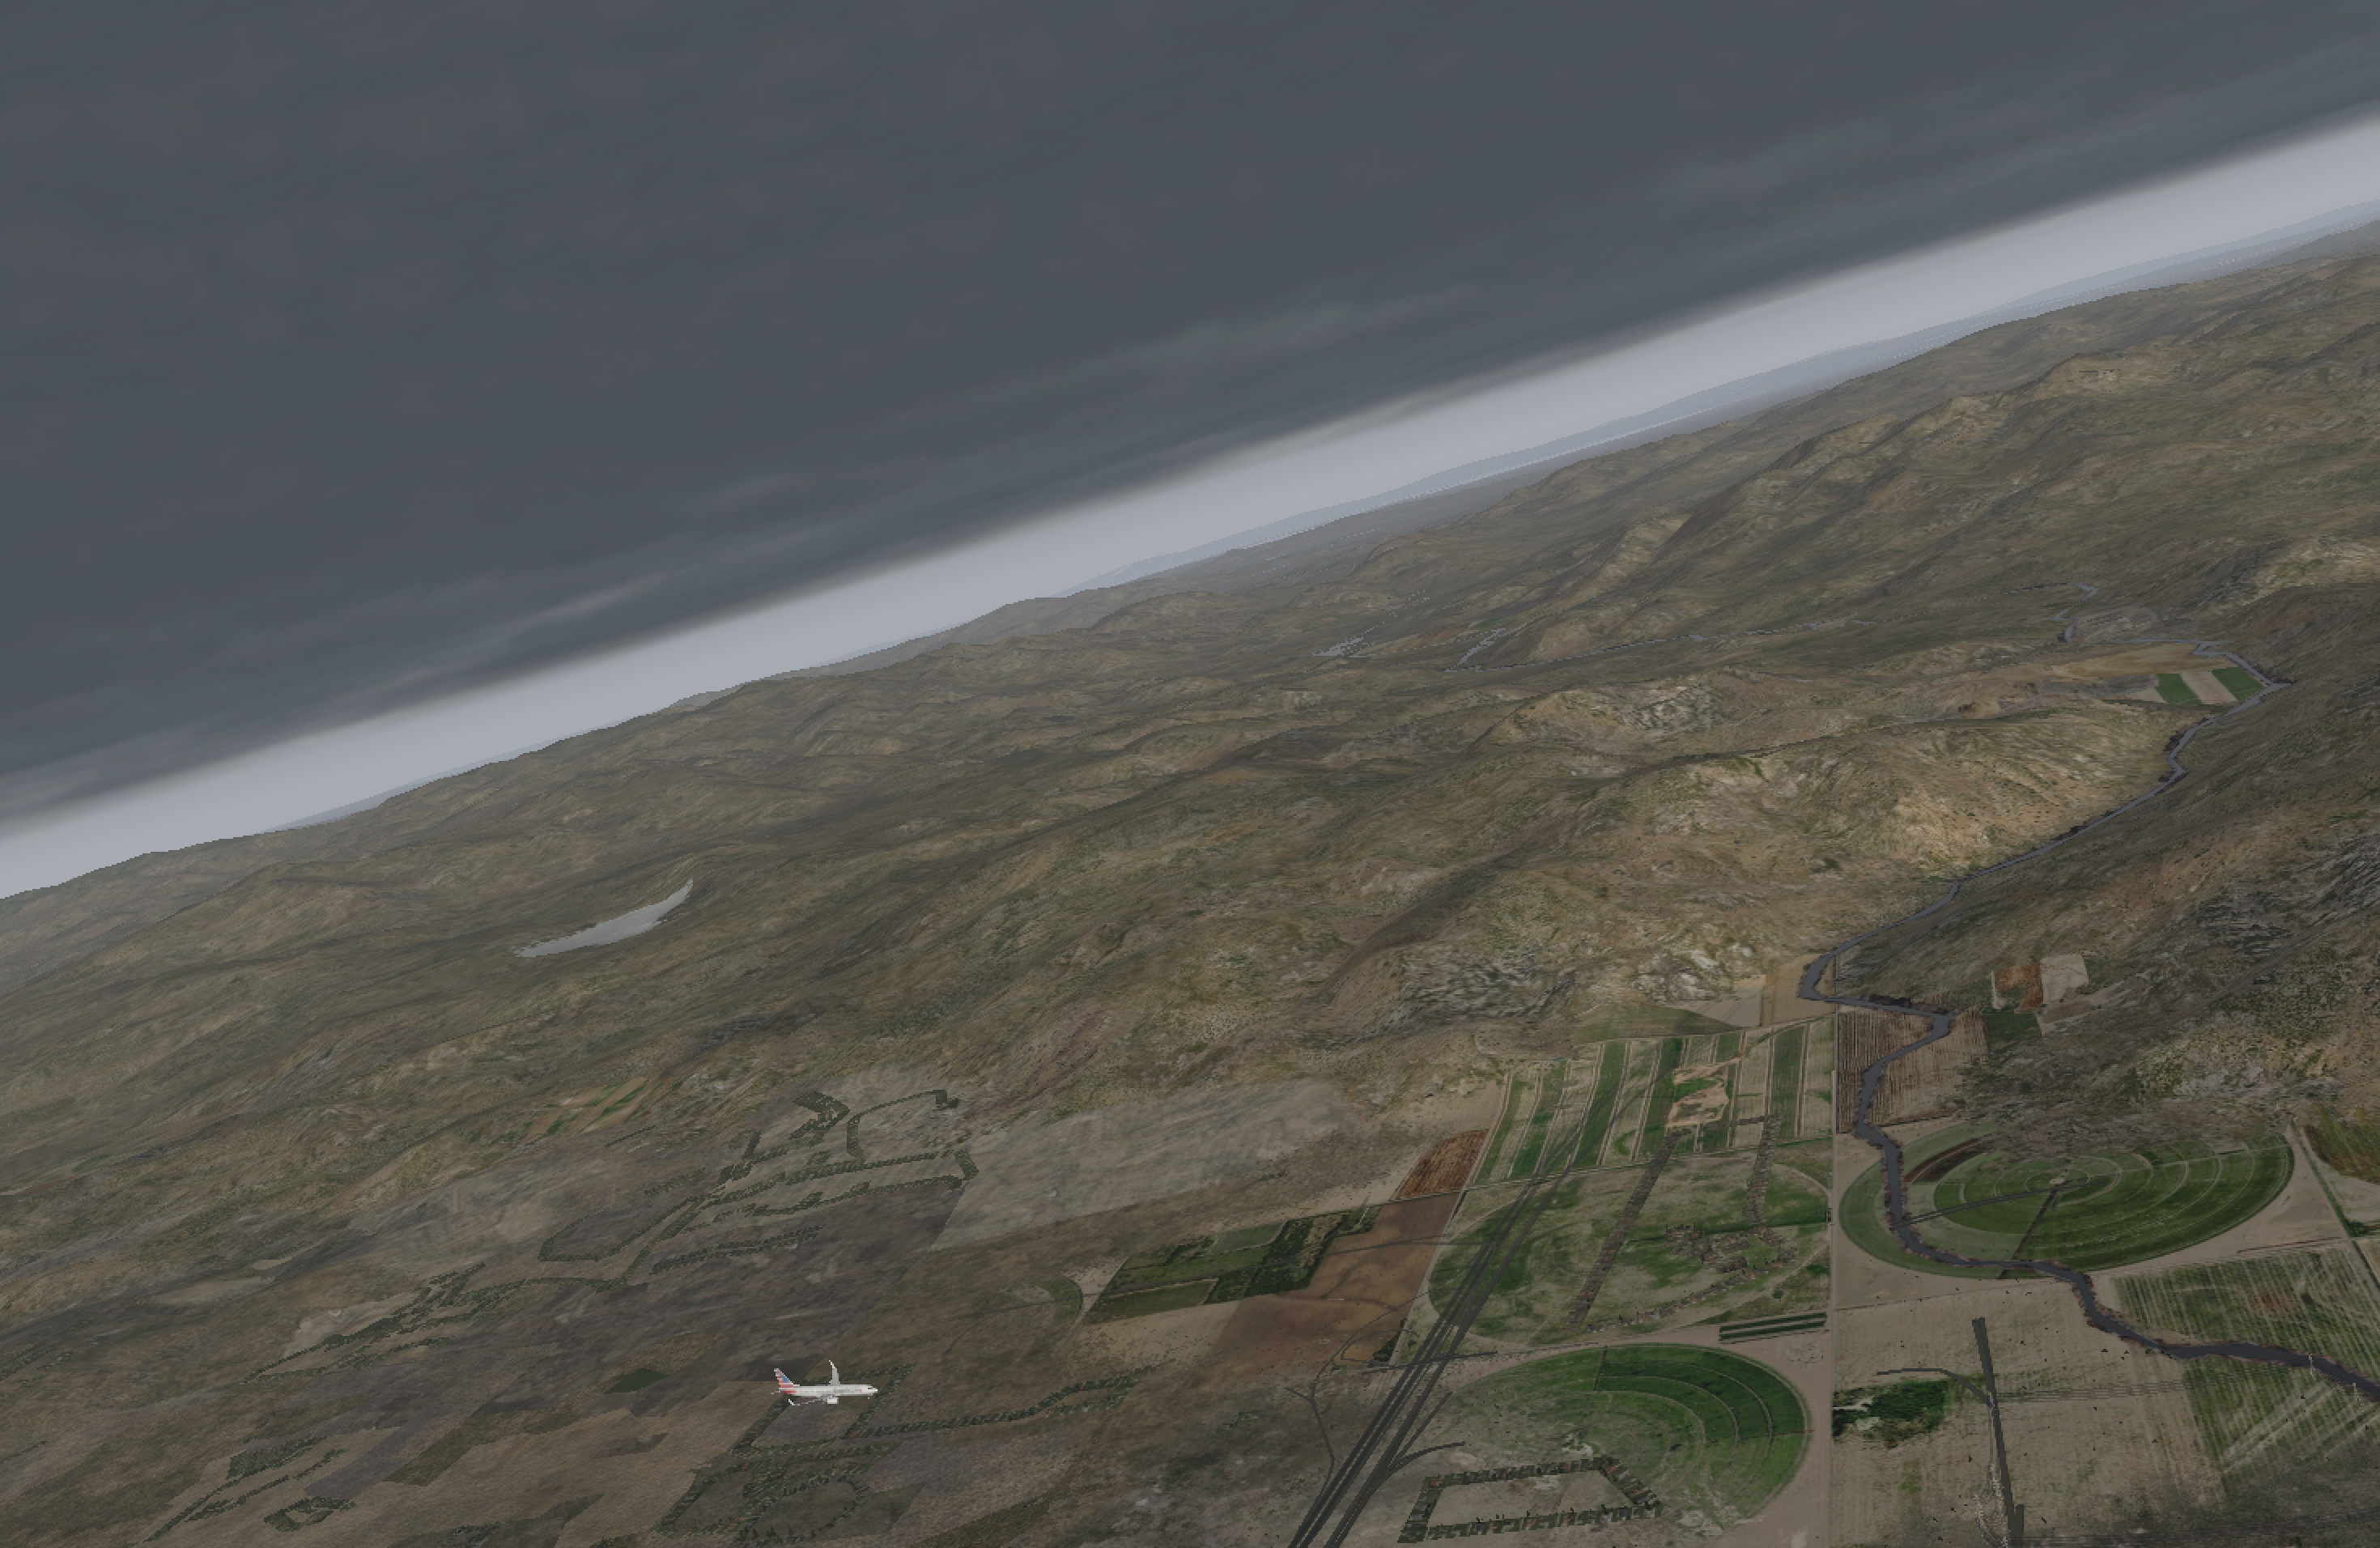aircraft: (779, 1373, 883, 1413)
